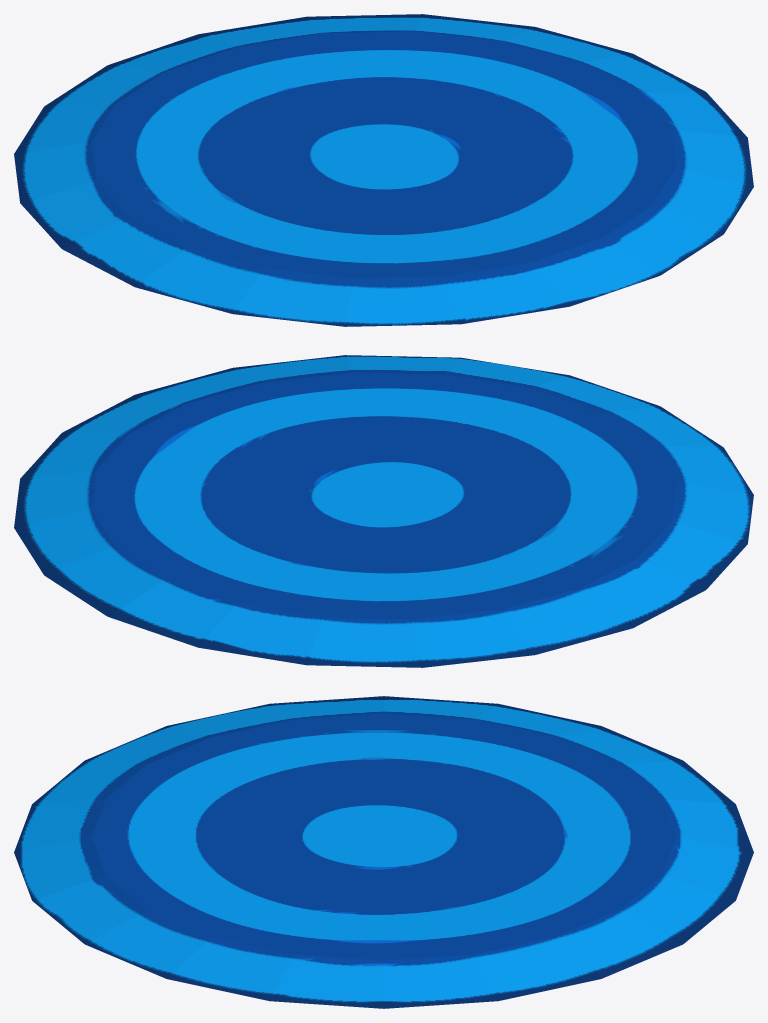
File: BigElevator.fbx
The picture shows the model from 3 angles, top to bottom: view 1: azimuth 30°, elevation 25°; view 2: azimuth 150°, elevation 25°; view 3: azimuth 270°, elevation 25°; orthographic projection.
Parts seen in each view (by area): view 1: pCylinder1; view 2: pCylinder1; view 3: pCylinder1.
Boxes of the visible parts, x1,y1,x2,y2 form: pCylinder1: (14, 14, 753, 326); pCylinder1: (14, 355, 753, 667); pCylinder1: (14, 696, 753, 1008).
Bounding box in the file's own units: 2.85 × 0.0659 × 2.85.
Materials: 4 (1 with a texture image).
